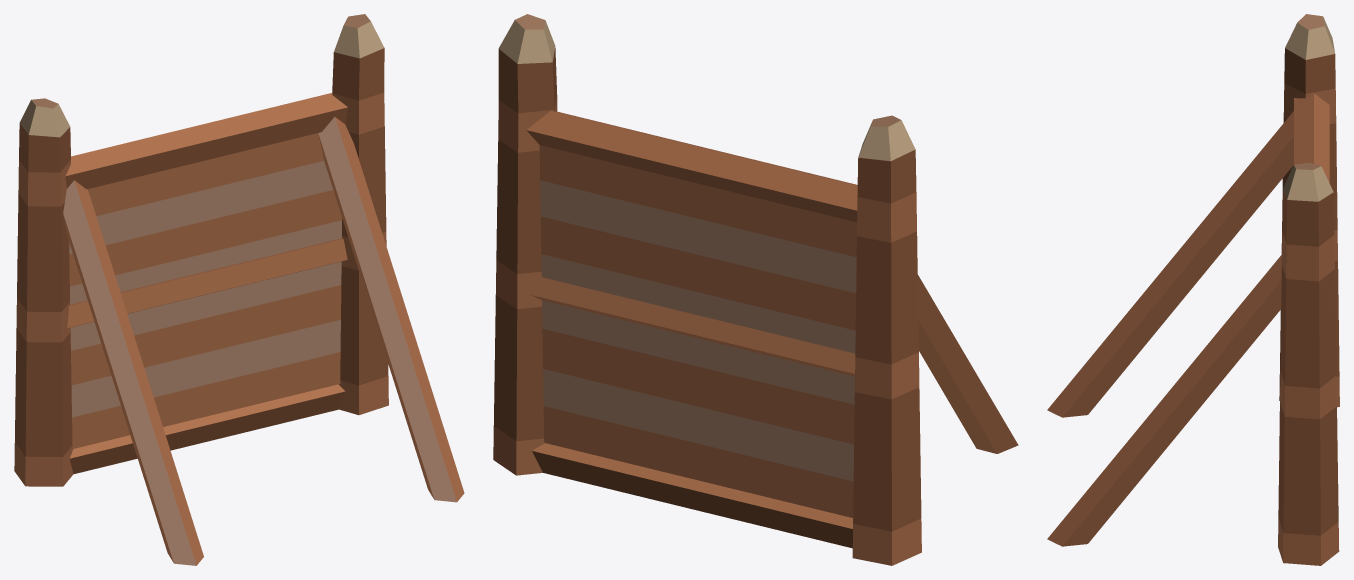
Rendered from TB_Bd_WoodWall.FBX.
The picture shows the model from 3 angles, left to right: view 1: azimuth 30°, elevation 25°; view 2: azimuth 150°, elevation 25°; view 3: azimuth 270°, elevation 25°; orthographic projection. The views are drawn at different scales.
Parts seen in each view (by area): view 1: TB_Bd_WoodWall; view 2: TB_Bd_WoodWall; view 3: TB_Bd_WoodWall.
Boxes of the visible parts, <box> form: TB_Bd_WoodWall: <box>14,14,464,565</box>; TB_Bd_WoodWall: <box>493,14,1018,565</box>; TB_Bd_WoodWall: <box>1047,14,1339,565</box>.
Bounding box in the file's own units: 6.11 × 6.19 × 4.23.
